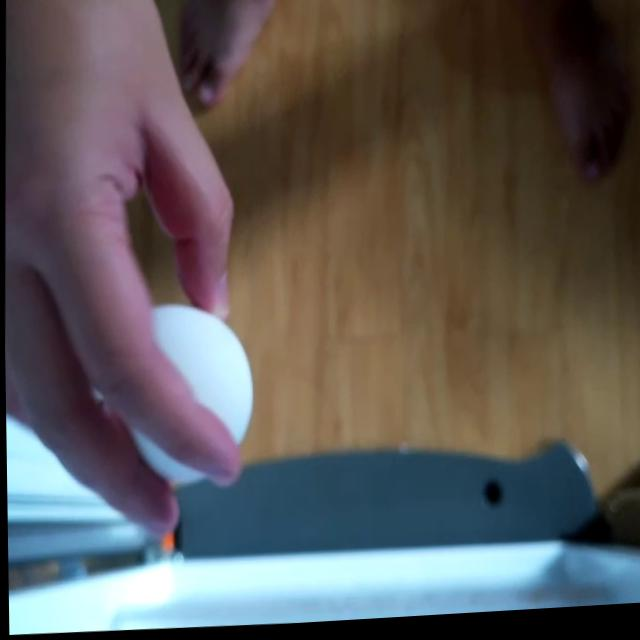egg: (126, 306, 252, 483)
